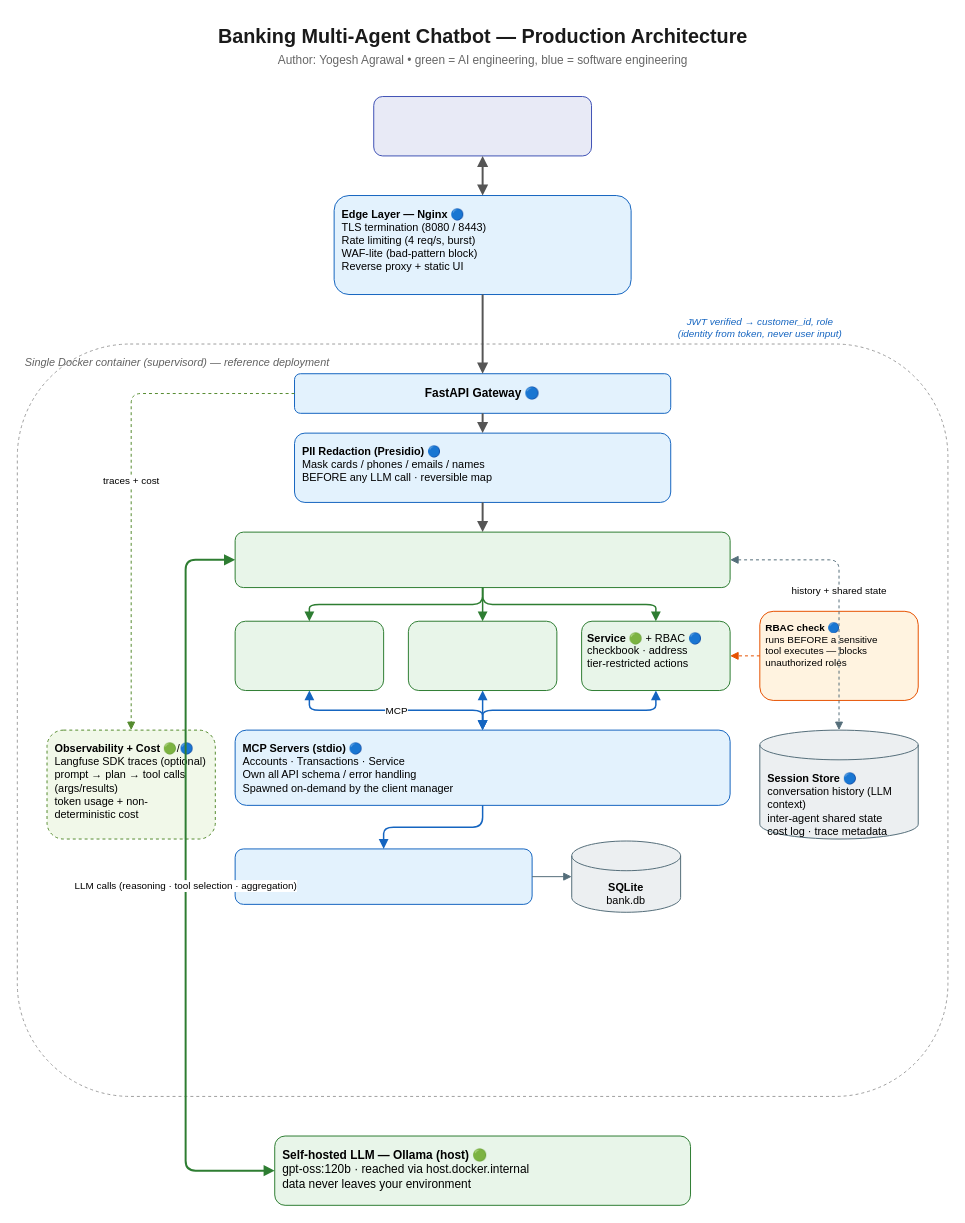
Some shapes in this 965 by 1223 pixel diagram are drawn without their labels. Each missing label, with the centre of its shape:
Accounts 🟢 balance, account info: pixel 309 655
Coordinator / Planner 🟢 LLM picks which specialists to call, then aggregates: pixel 482 559
Customer Browser Chat UI (login + conversation): pixel 482 126
Mock Bank API 🔵 balance · transactions · service requests: pixel 383 876
Transactions 🟢 list · inspect · flag suspicious: pixel 482 655
